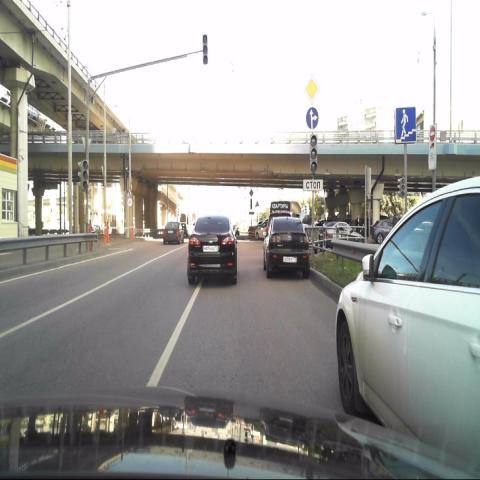6_16: (302, 178, 322, 192)
6_6: (394, 106, 417, 143)
